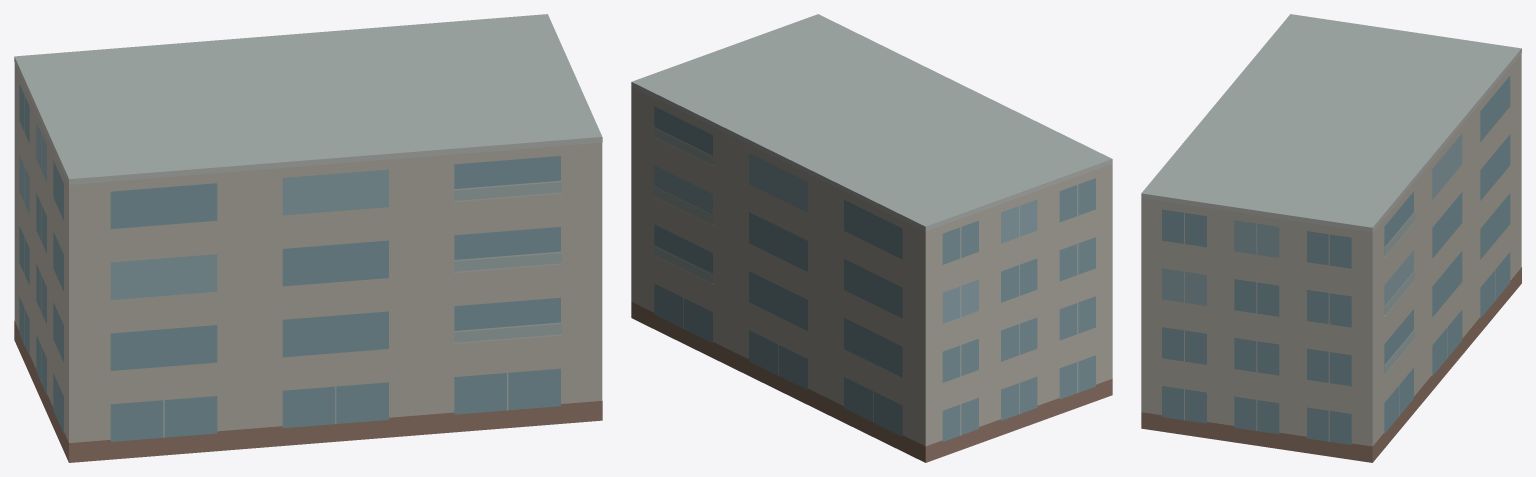
File: residential-f7004464-478e-455b-ae31-449dfa49e5f6.glb
The picture shows the model from 3 angles, left to right: view 1: azimuth 30°, elevation 25°; view 2: azimuth 150°, elevation 25°; view 3: azimuth 270°, elevation 25°; orthographic projection. The views are drawn at different scales.
Parts seen in each view (by area): view 1: residential-f7004464-478e-455b-ae31-449dfa49e5f6.tmp; view 2: residential-f7004464-478e-455b-ae31-449dfa49e5f6.tmp; view 3: residential-f7004464-478e-455b-ae31-449dfa49e5f6.tmp.
Boxes of the visible parts, x1=… form: residential-f7004464-478e-455b-ae31-449dfa49e5f6.tmp: x1=14, y1=14, x2=602, y2=462; residential-f7004464-478e-455b-ae31-449dfa49e5f6.tmp: x1=631, y1=14, x2=1112, y2=462; residential-f7004464-478e-455b-ae31-449dfa49e5f6.tmp: x1=1141, y1=14, x2=1521, y2=462.
Size of the model in its own units: 23.79 by 12.2 by 17.9.
